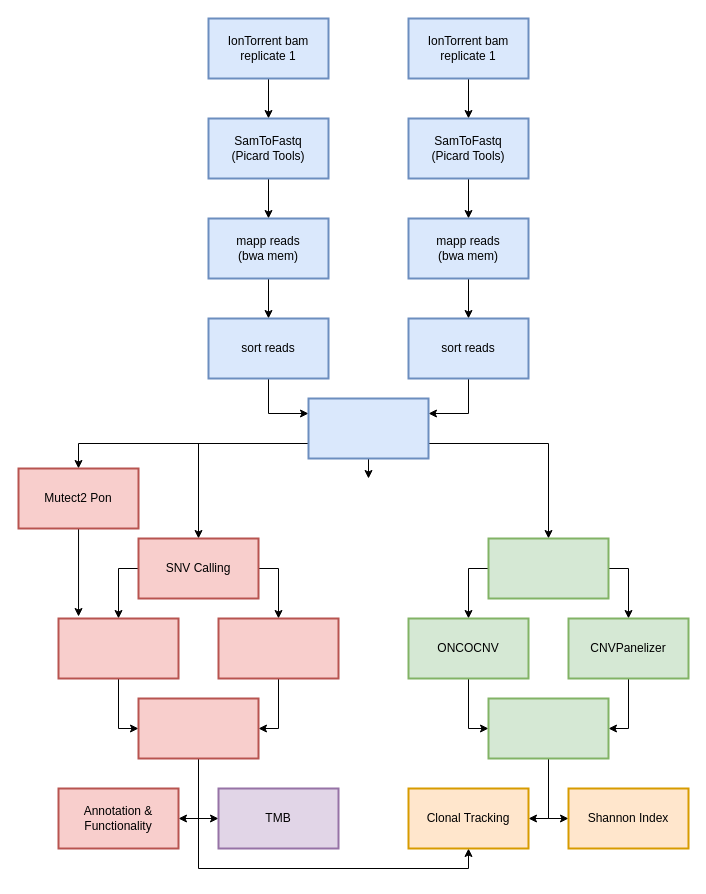
This 706x894 diagram has some shape labels left out. The box of each missing label's shape, as (x1, y1, x2, y2) in pixels:
CNV Calling: (487, 537, 609, 599)
Intesect CNV calls: (487, 697, 609, 759)
merge replicate bam files + index: (307, 397, 429, 459)
Mutect2 tumor-only: (57, 617, 179, 679)
Vardict: (217, 617, 339, 679)
VCF intersect & filter: (137, 697, 259, 759)
